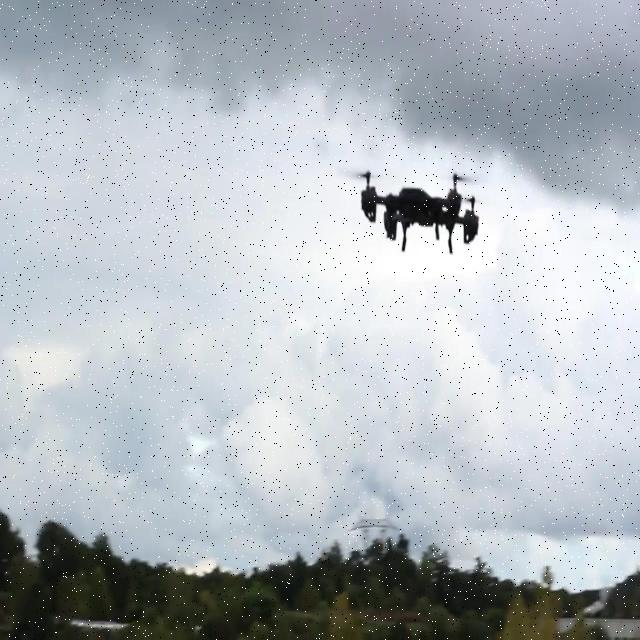UAV: (358, 168, 479, 257)
